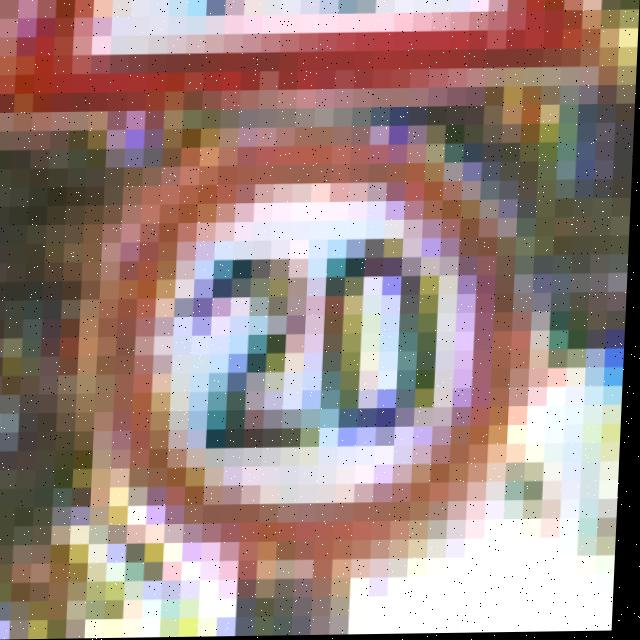speed_limit_20: (80, 137, 542, 580)
